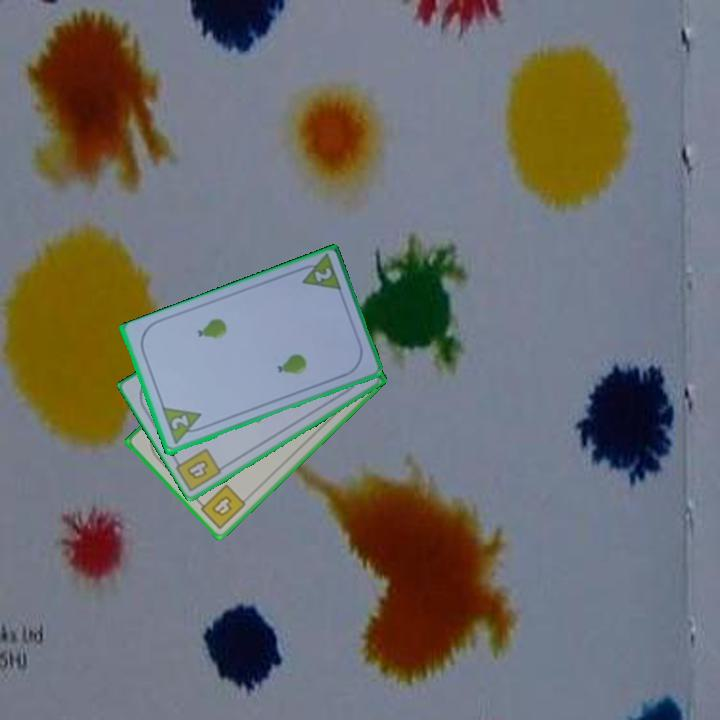2p: (293, 252, 345, 295), (158, 404, 208, 448)
4b: (193, 481, 249, 532), (183, 456, 211, 482)
